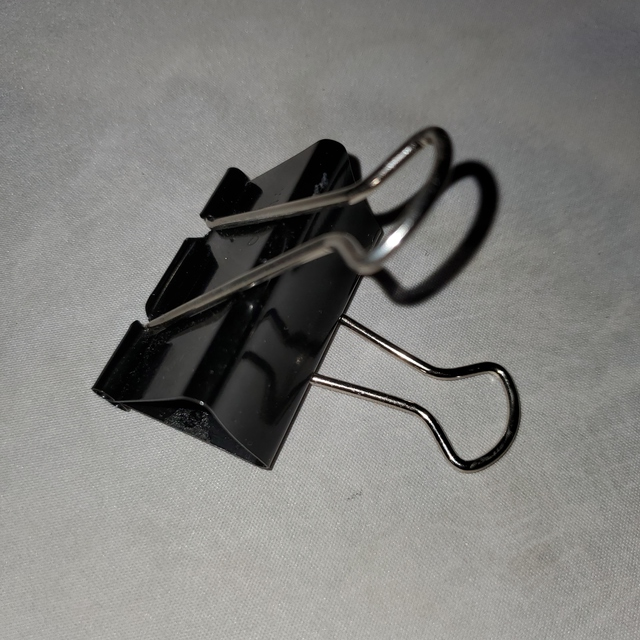clip: (91, 117, 528, 489)
